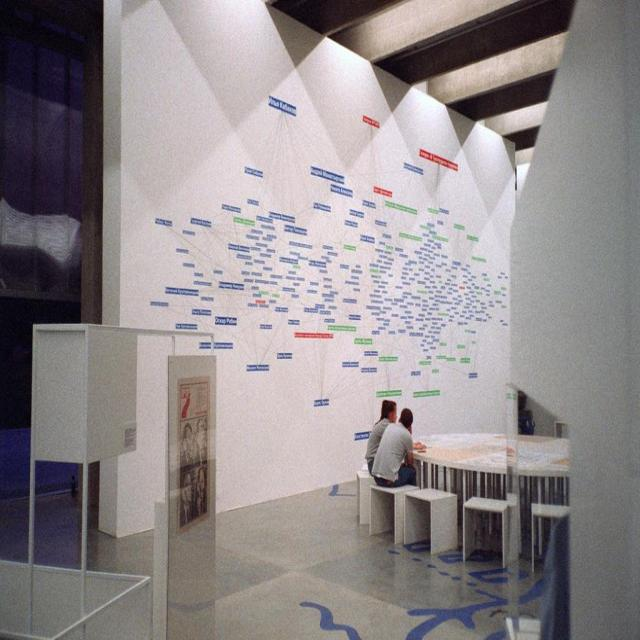Table: (398, 428, 572, 564)
